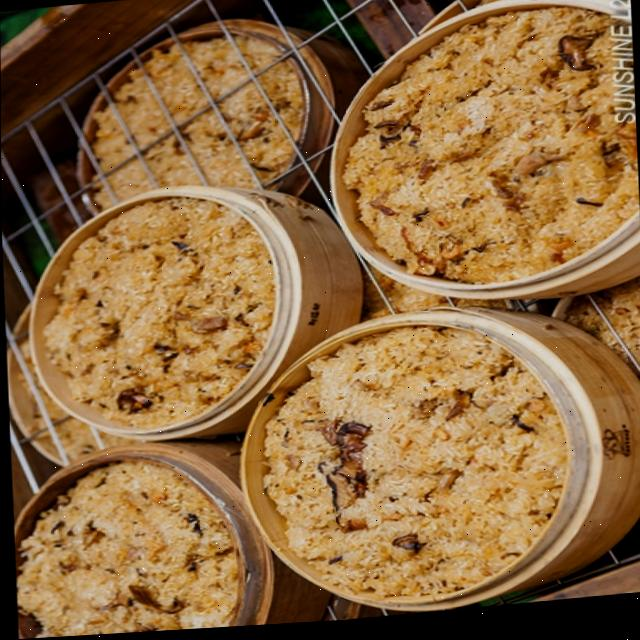米饭主食: (11, 31, 637, 625)
